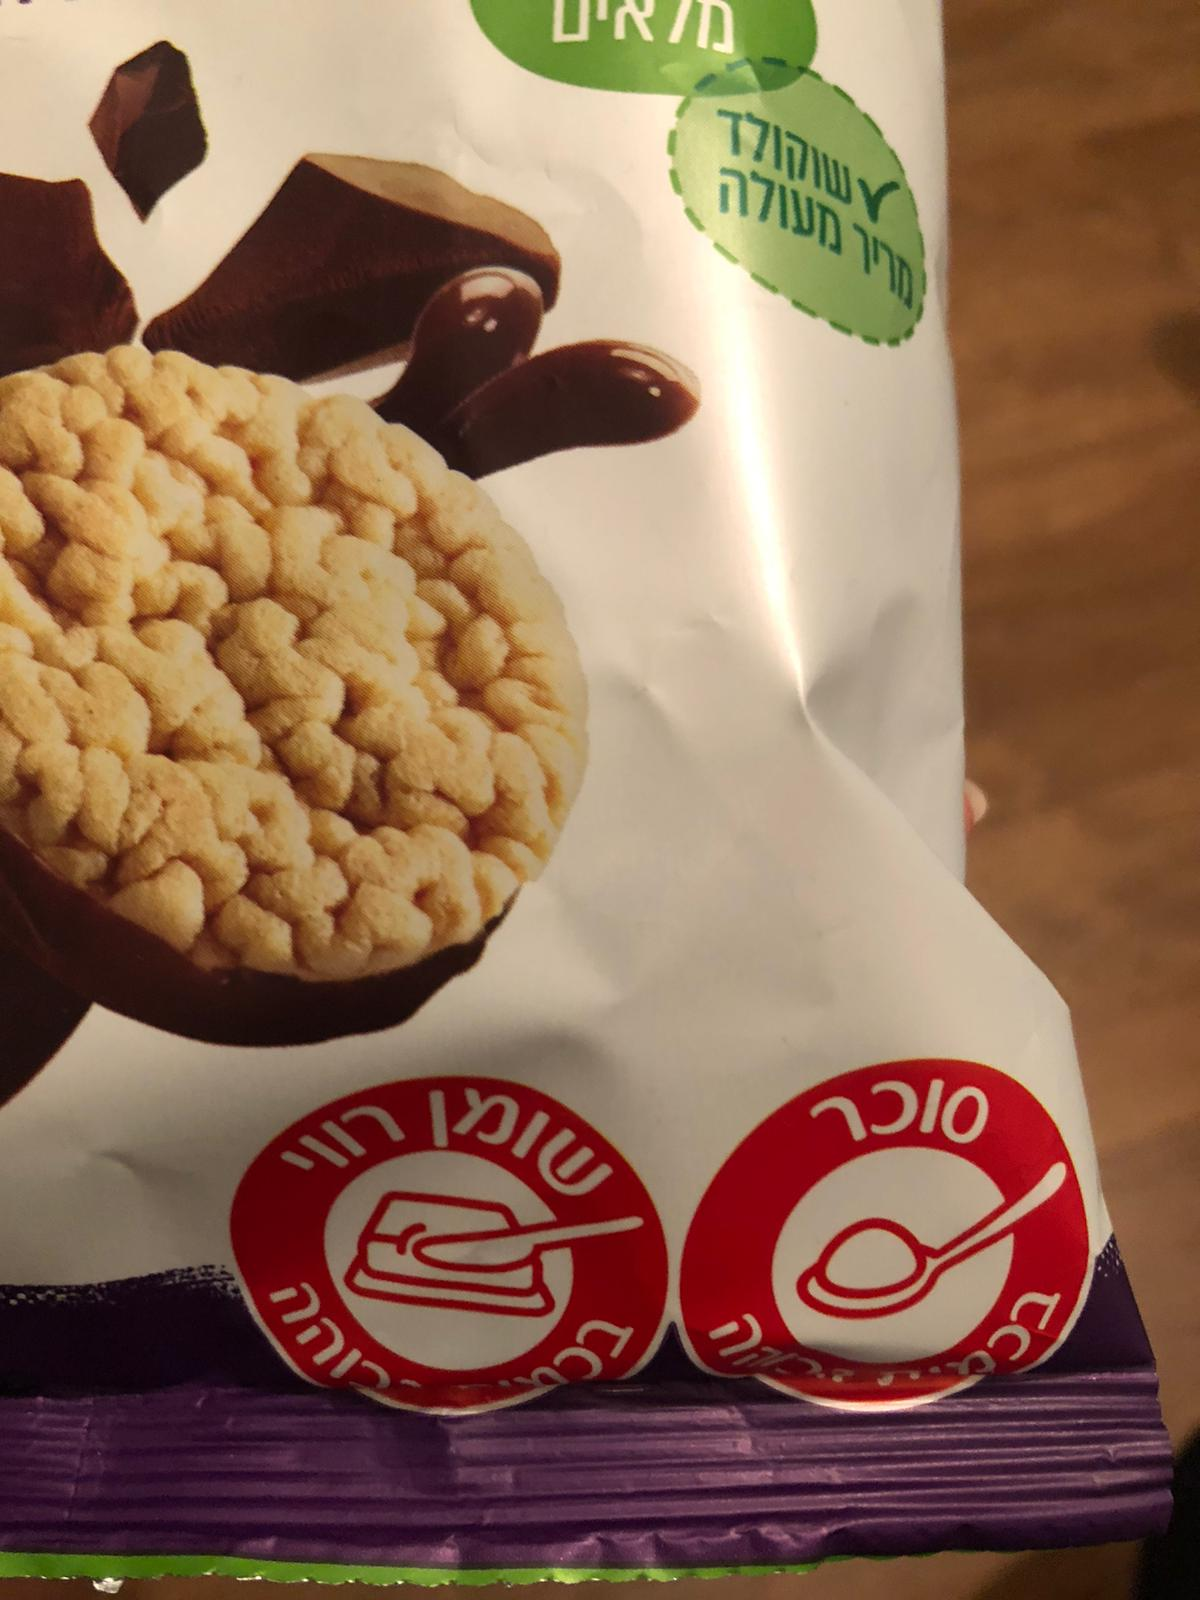fat: (222, 1075, 674, 1415)
sugar: (669, 1061, 1089, 1414)
